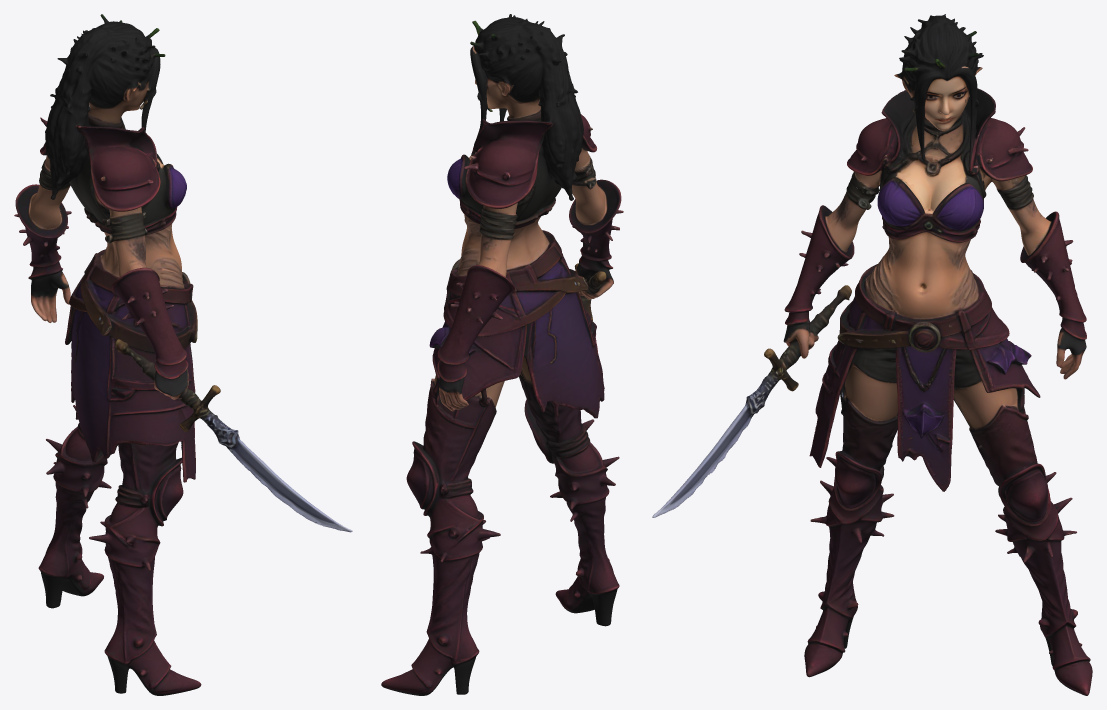
File: model_v4_pbr.glb
3 views of the same model, side by side, from view 1: azimuth 30°, elevation 25°; view 2: azimuth 150°, elevation 25°; view 3: azimuth 270°, elevation 25° (orthographic). The views are drawn at different scales.
Parts seen in each view (by area): view 1: tripo_node_c5a82012-fe42-4348-8546-3ca5414f4120; view 2: tripo_node_c5a82012-fe42-4348-8546-3ca5414f4120; view 3: tripo_node_c5a82012-fe42-4348-8546-3ca5414f4120.
Part boxes in pixels (x1=…): tripo_node_c5a82012-fe42-4348-8546-3ca5414f4120: x1=14, y1=14, x2=352, y2=695; tripo_node_c5a82012-fe42-4348-8546-3ca5414f4120: x1=381, y1=14, x2=623, y2=695; tripo_node_c5a82012-fe42-4348-8546-3ca5414f4120: x1=652, y1=14, x2=1092, y2=695.
Bounding box in the file's own units: 0.2721 × 0.9968 × 0.6188.
1 material, 1 textured.
